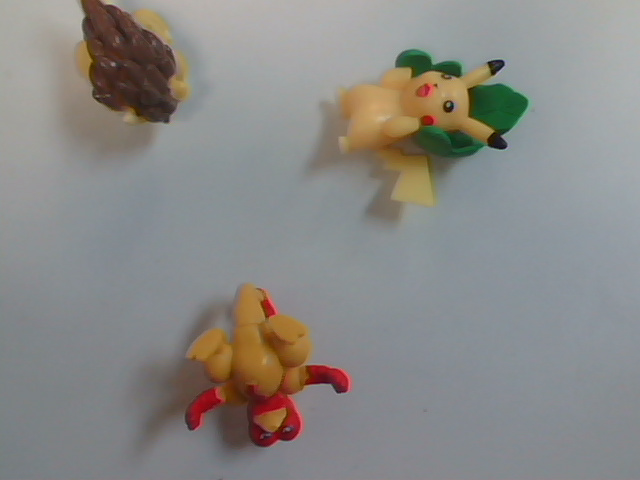magmar: (163, 270, 393, 471)
pikachu: (329, 21, 533, 228)
sandslash: (15, 6, 218, 205)
